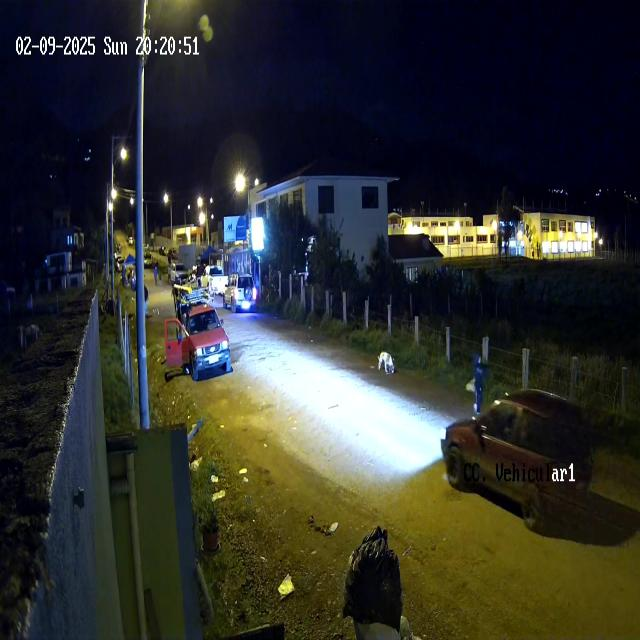SUV: (439, 384, 595, 528)
